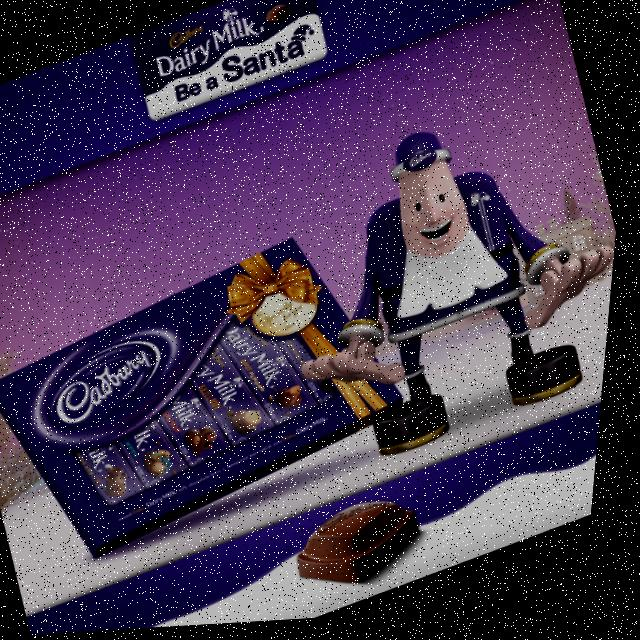cadbury: (203, 270, 346, 471), (163, 293, 303, 492), (292, 485, 446, 605)
